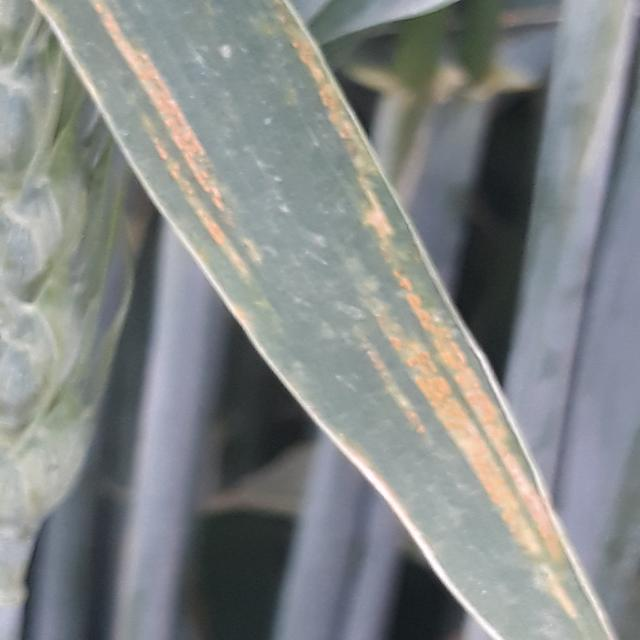yellow_rust: (21, 11, 606, 612)
